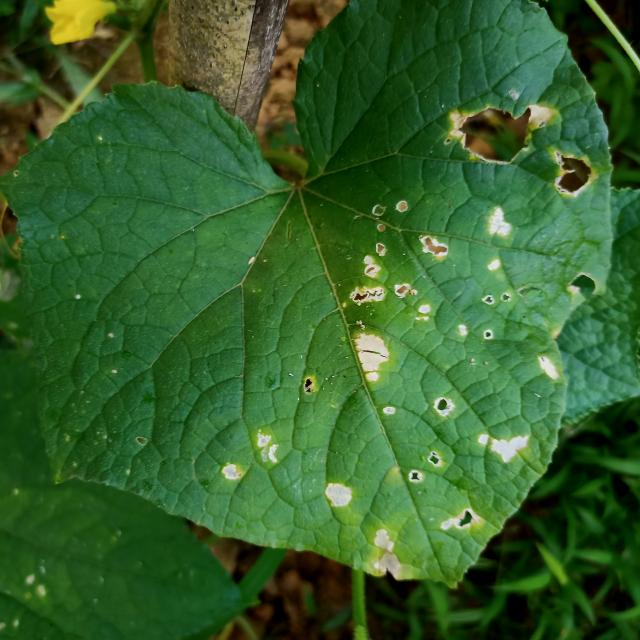disease_cucumber: (344, 195, 453, 324), (444, 88, 558, 172), (215, 428, 285, 483), (353, 324, 394, 389), (474, 426, 533, 470), (555, 148, 598, 198), (371, 525, 406, 580), (406, 447, 449, 489), (479, 197, 518, 241), (438, 502, 483, 538), (322, 477, 358, 512), (536, 350, 562, 384), (432, 392, 453, 423)
